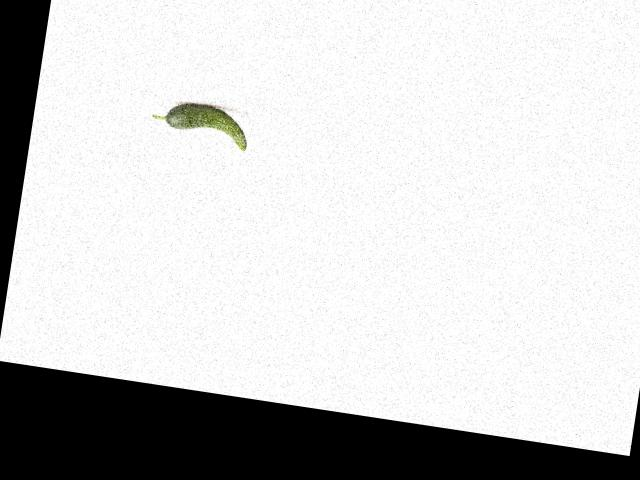cucumber: (148, 97, 251, 150)
